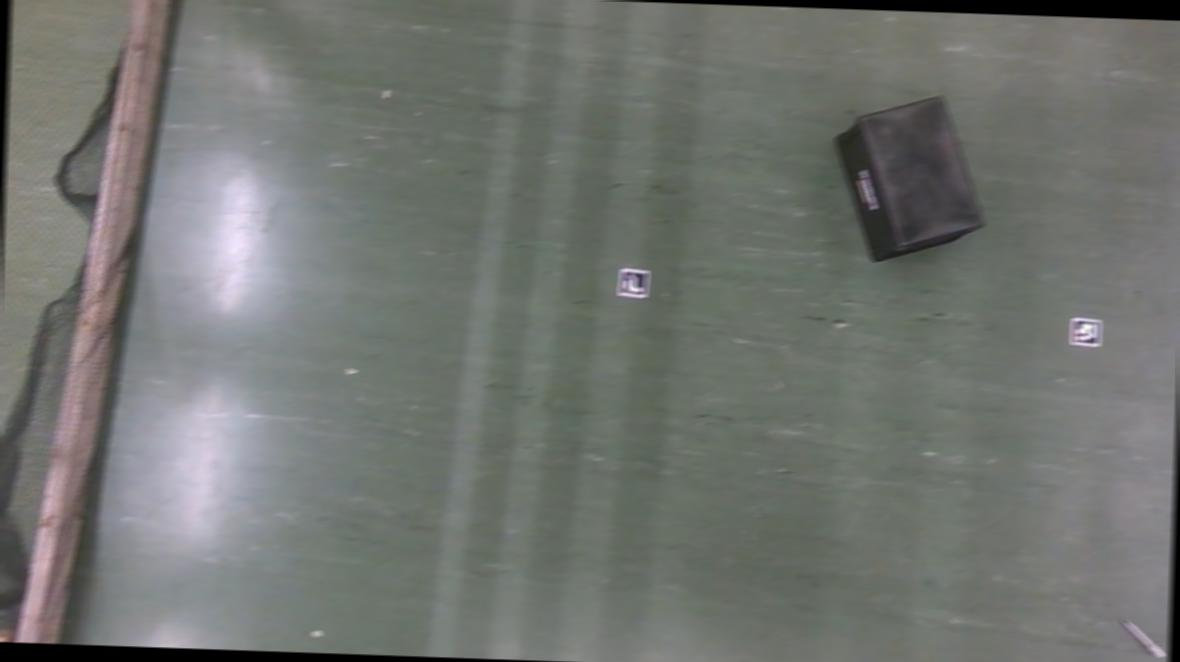probes: (1121, 619, 1165, 657)
rako: (836, 96, 985, 261)
